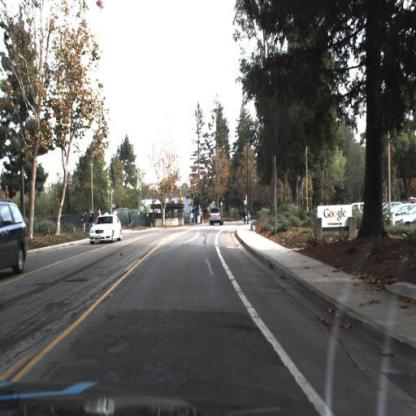biker: (86, 205, 97, 235), (242, 208, 248, 226)
car: (1, 201, 29, 280), (89, 213, 123, 244), (209, 206, 224, 228)
pedestrian: (88, 208, 98, 239)
